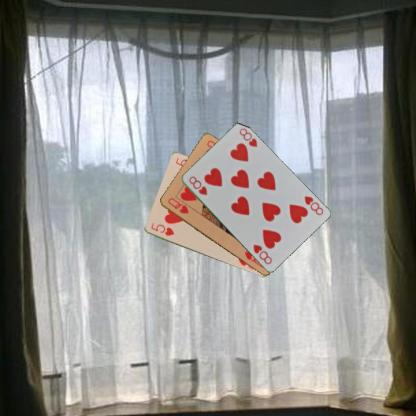5h: (148, 220, 175, 237)
8h: (301, 193, 325, 217), (186, 173, 208, 196)
Qh: (165, 195, 190, 215)
